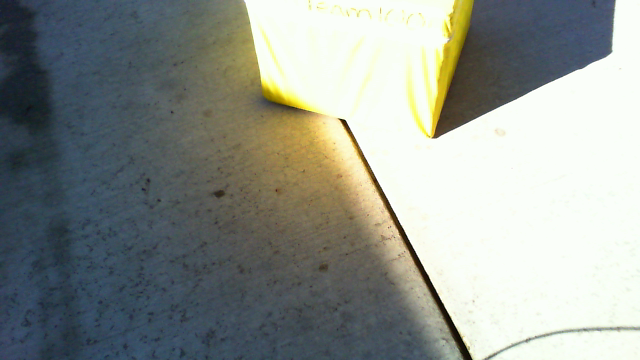cube: (244, 1, 476, 137)
